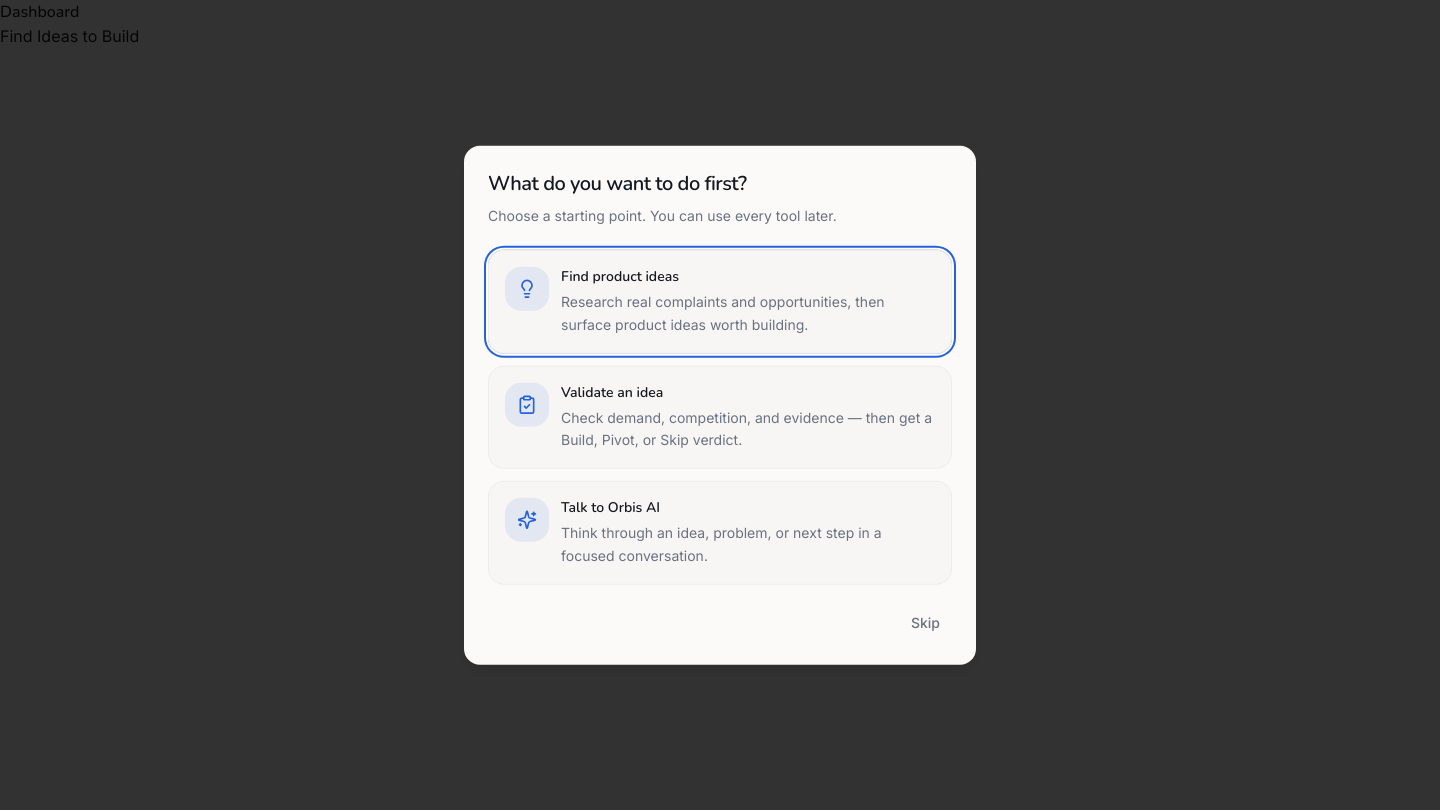
OnboardingTour goal routing › navigates {} to /validate with one-time focus request
Click the button "Validate an idea" at (720, 417), box [488,365,952,469]
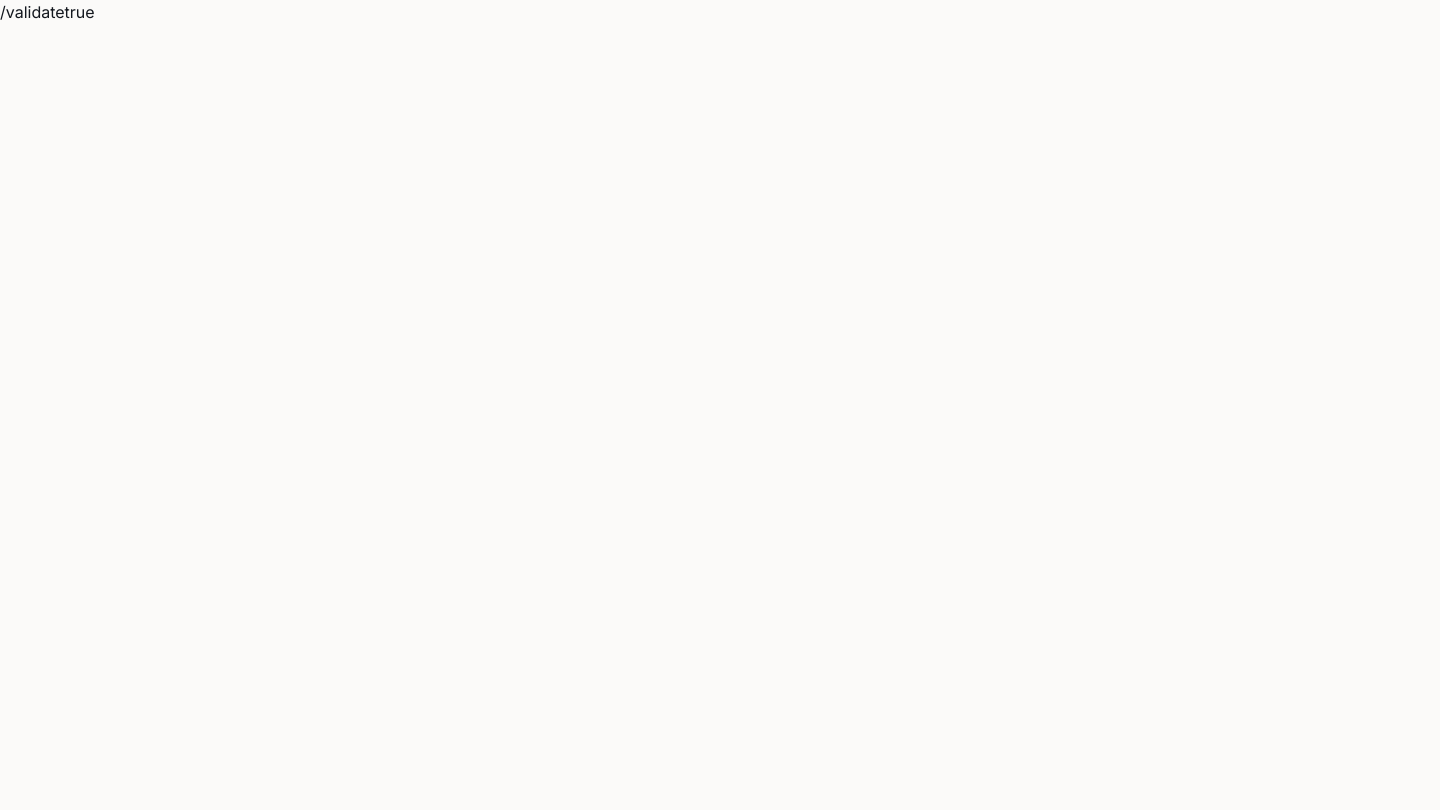
Expected: the text with test id "pathname" reads "/validate", [0,2,65,22]
Expected: the text with test id "focus-flag" reads "true", [65,2,95,22]
Expected: the dialog is gone
